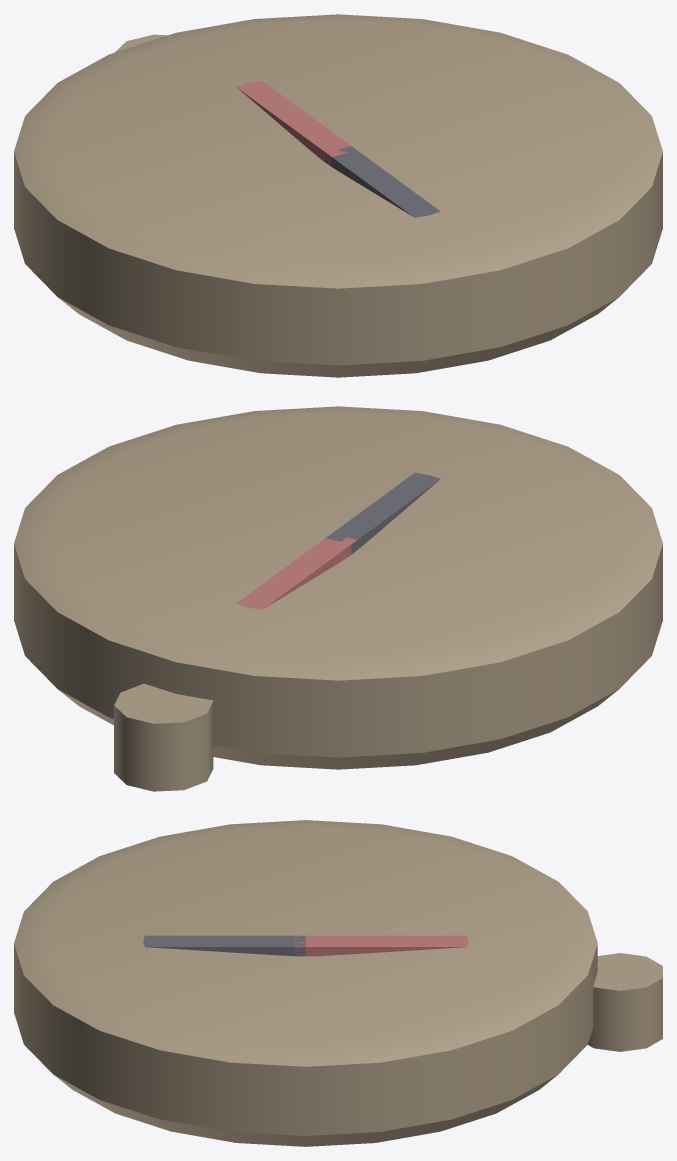
The model's file is tl_compass.gltf.
The picture shows the model from 3 angles, top to bottom: view 1: azimuth 30°, elevation 25°; view 2: azimuth 150°, elevation 25°; view 3: azimuth 270°, elevation 25°; orthographic projection. The views are drawn at different scales.
Visible parts, largest first — view 1: Body, Needle; view 2: Body, Needle; view 3: Body, Needle.
Boxes of the visible parts, x1,y1,x2,y2 form: Body: (14, 14, 662, 377); Needle: (236, 80, 440, 217); Body: (14, 406, 662, 791); Needle: (236, 472, 440, 609); Body: (14, 820, 662, 1146); Needle: (143, 935, 468, 956).
Size of the model in its own units: 0.13 by 0.024 by 0.1445.
